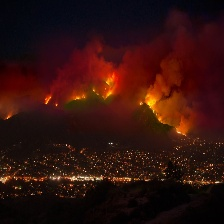fire: (147, 102, 163, 125), (71, 94, 90, 102), (175, 127, 188, 137), (44, 94, 53, 104), (104, 78, 114, 87), (3, 114, 14, 119), (106, 92, 111, 101)
smoke: (3, 40, 223, 115)
